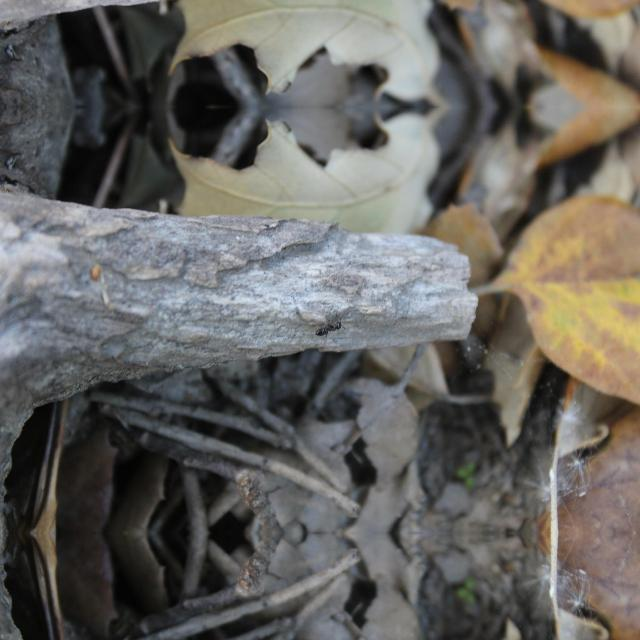Crematogaster: (316, 318, 344, 338)
